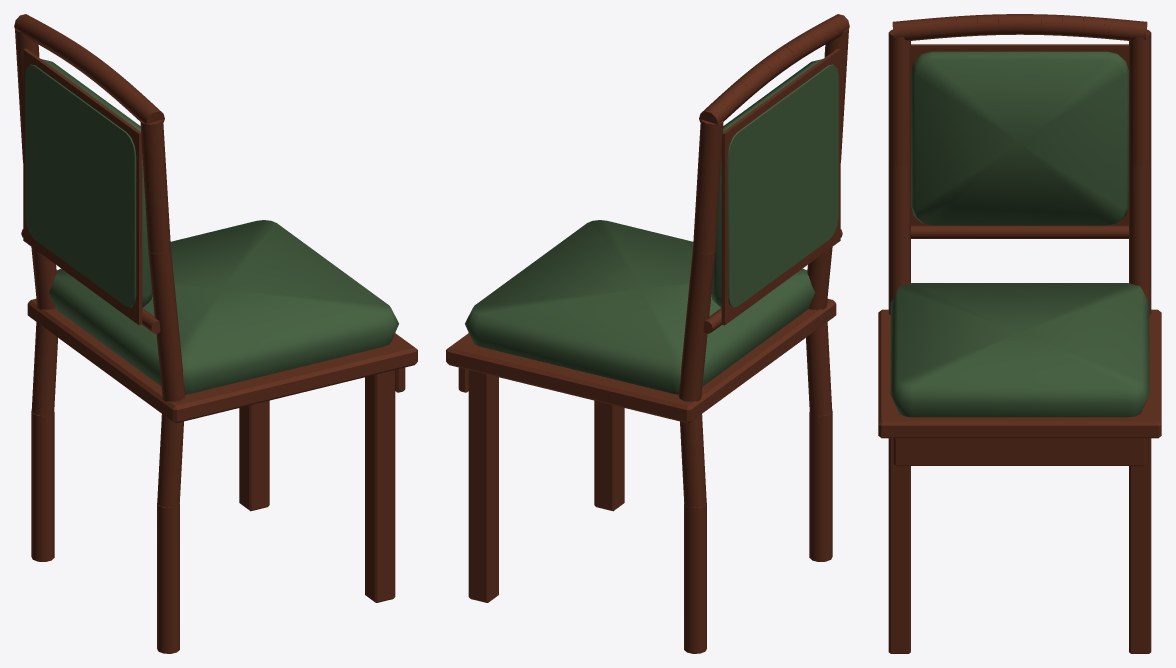
The model's file is parametric-chair-1st.glb.
3 renders of one model, left to right at view 1: azimuth 30°, elevation 25°; view 2: azimuth 150°, elevation 25°; view 3: azimuth 270°, elevation 25°, orthographic. The views are drawn at different scales.
Visible parts, largest first — view 1: parametric-chair-1st; view 2: parametric-chair-1st; view 3: parametric-chair-1st.
Boxes of the visible parts, x1,y1,x2,y2 form: parametric-chair-1st: (14, 14, 417, 653); parametric-chair-1st: (446, 14, 849, 653); parametric-chair-1st: (878, 14, 1161, 653).
Size of the model in its own units: 0.4771 by 0.9462 by 0.46.
